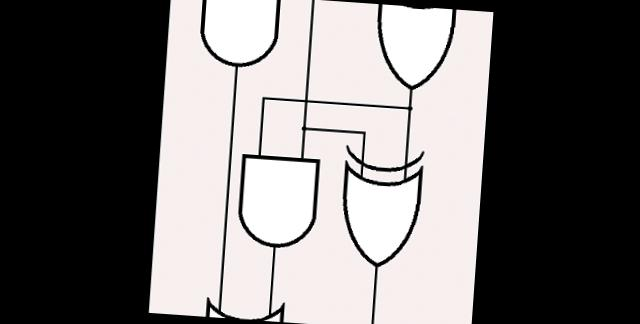and: (230, 147, 324, 256), (191, 0, 285, 75)
or: (199, 292, 288, 322)
xor: (331, 140, 428, 275), (366, 3, 460, 97)
